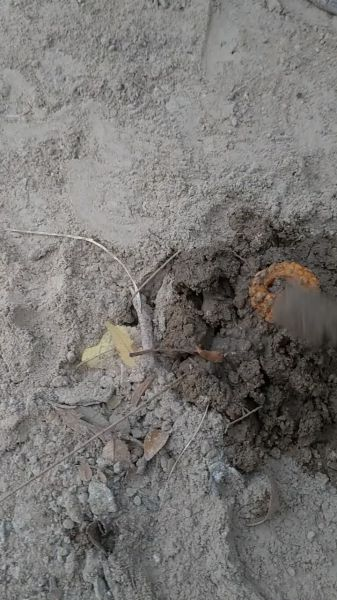eggs: (247, 261, 326, 336)
